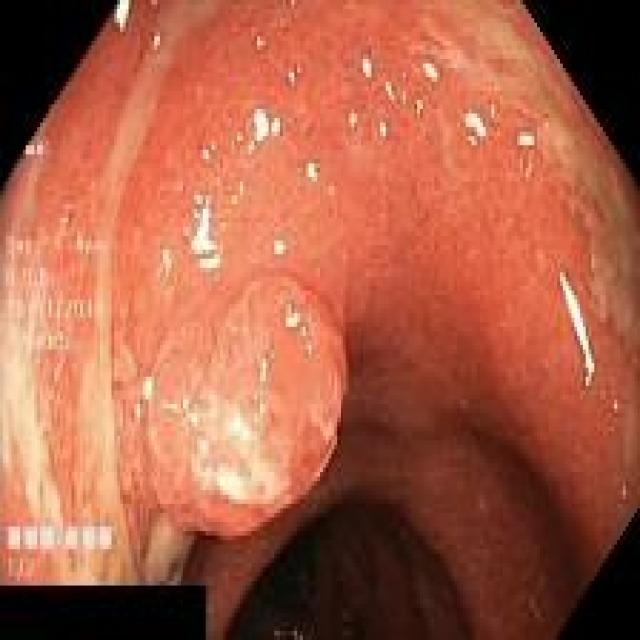Polyps: (146, 278, 348, 537)
